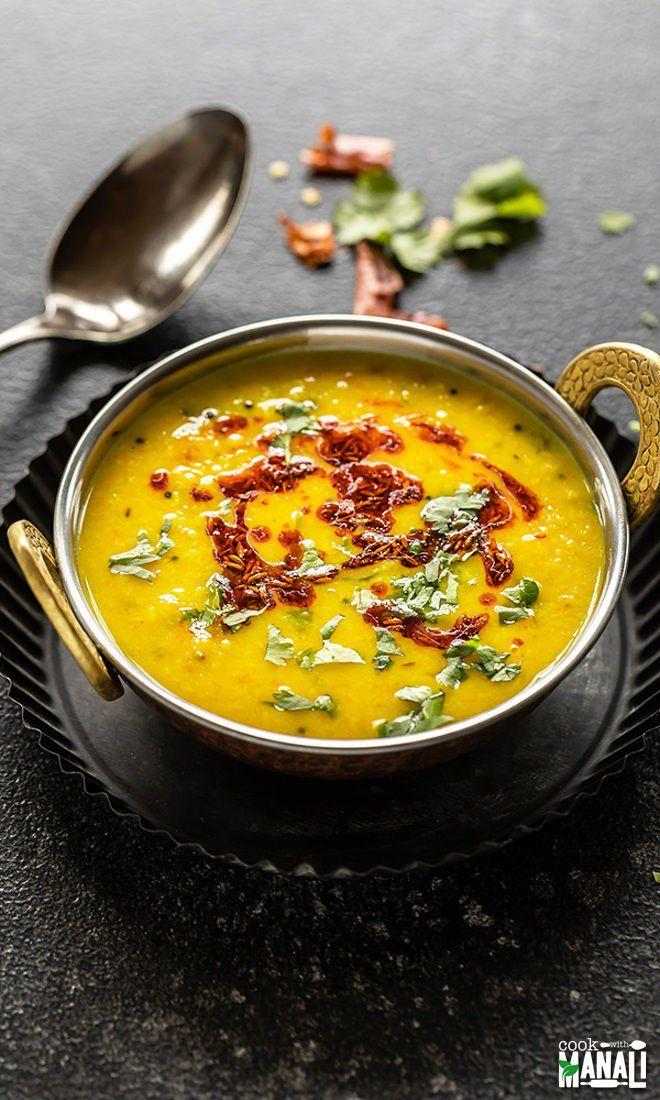daal: (80, 349, 632, 757)
